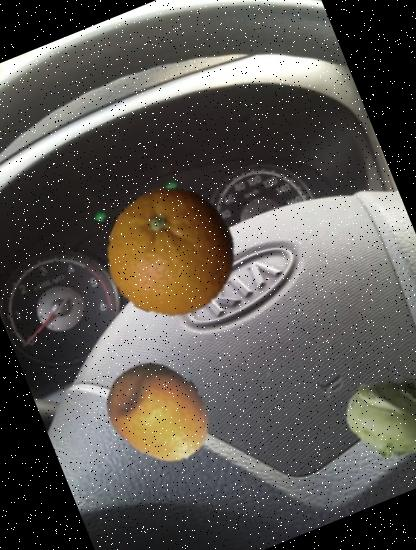Kohlrabi: (329, 350, 416, 484)
Kumquats: (87, 339, 231, 484)
Orange: (89, 168, 258, 337)
